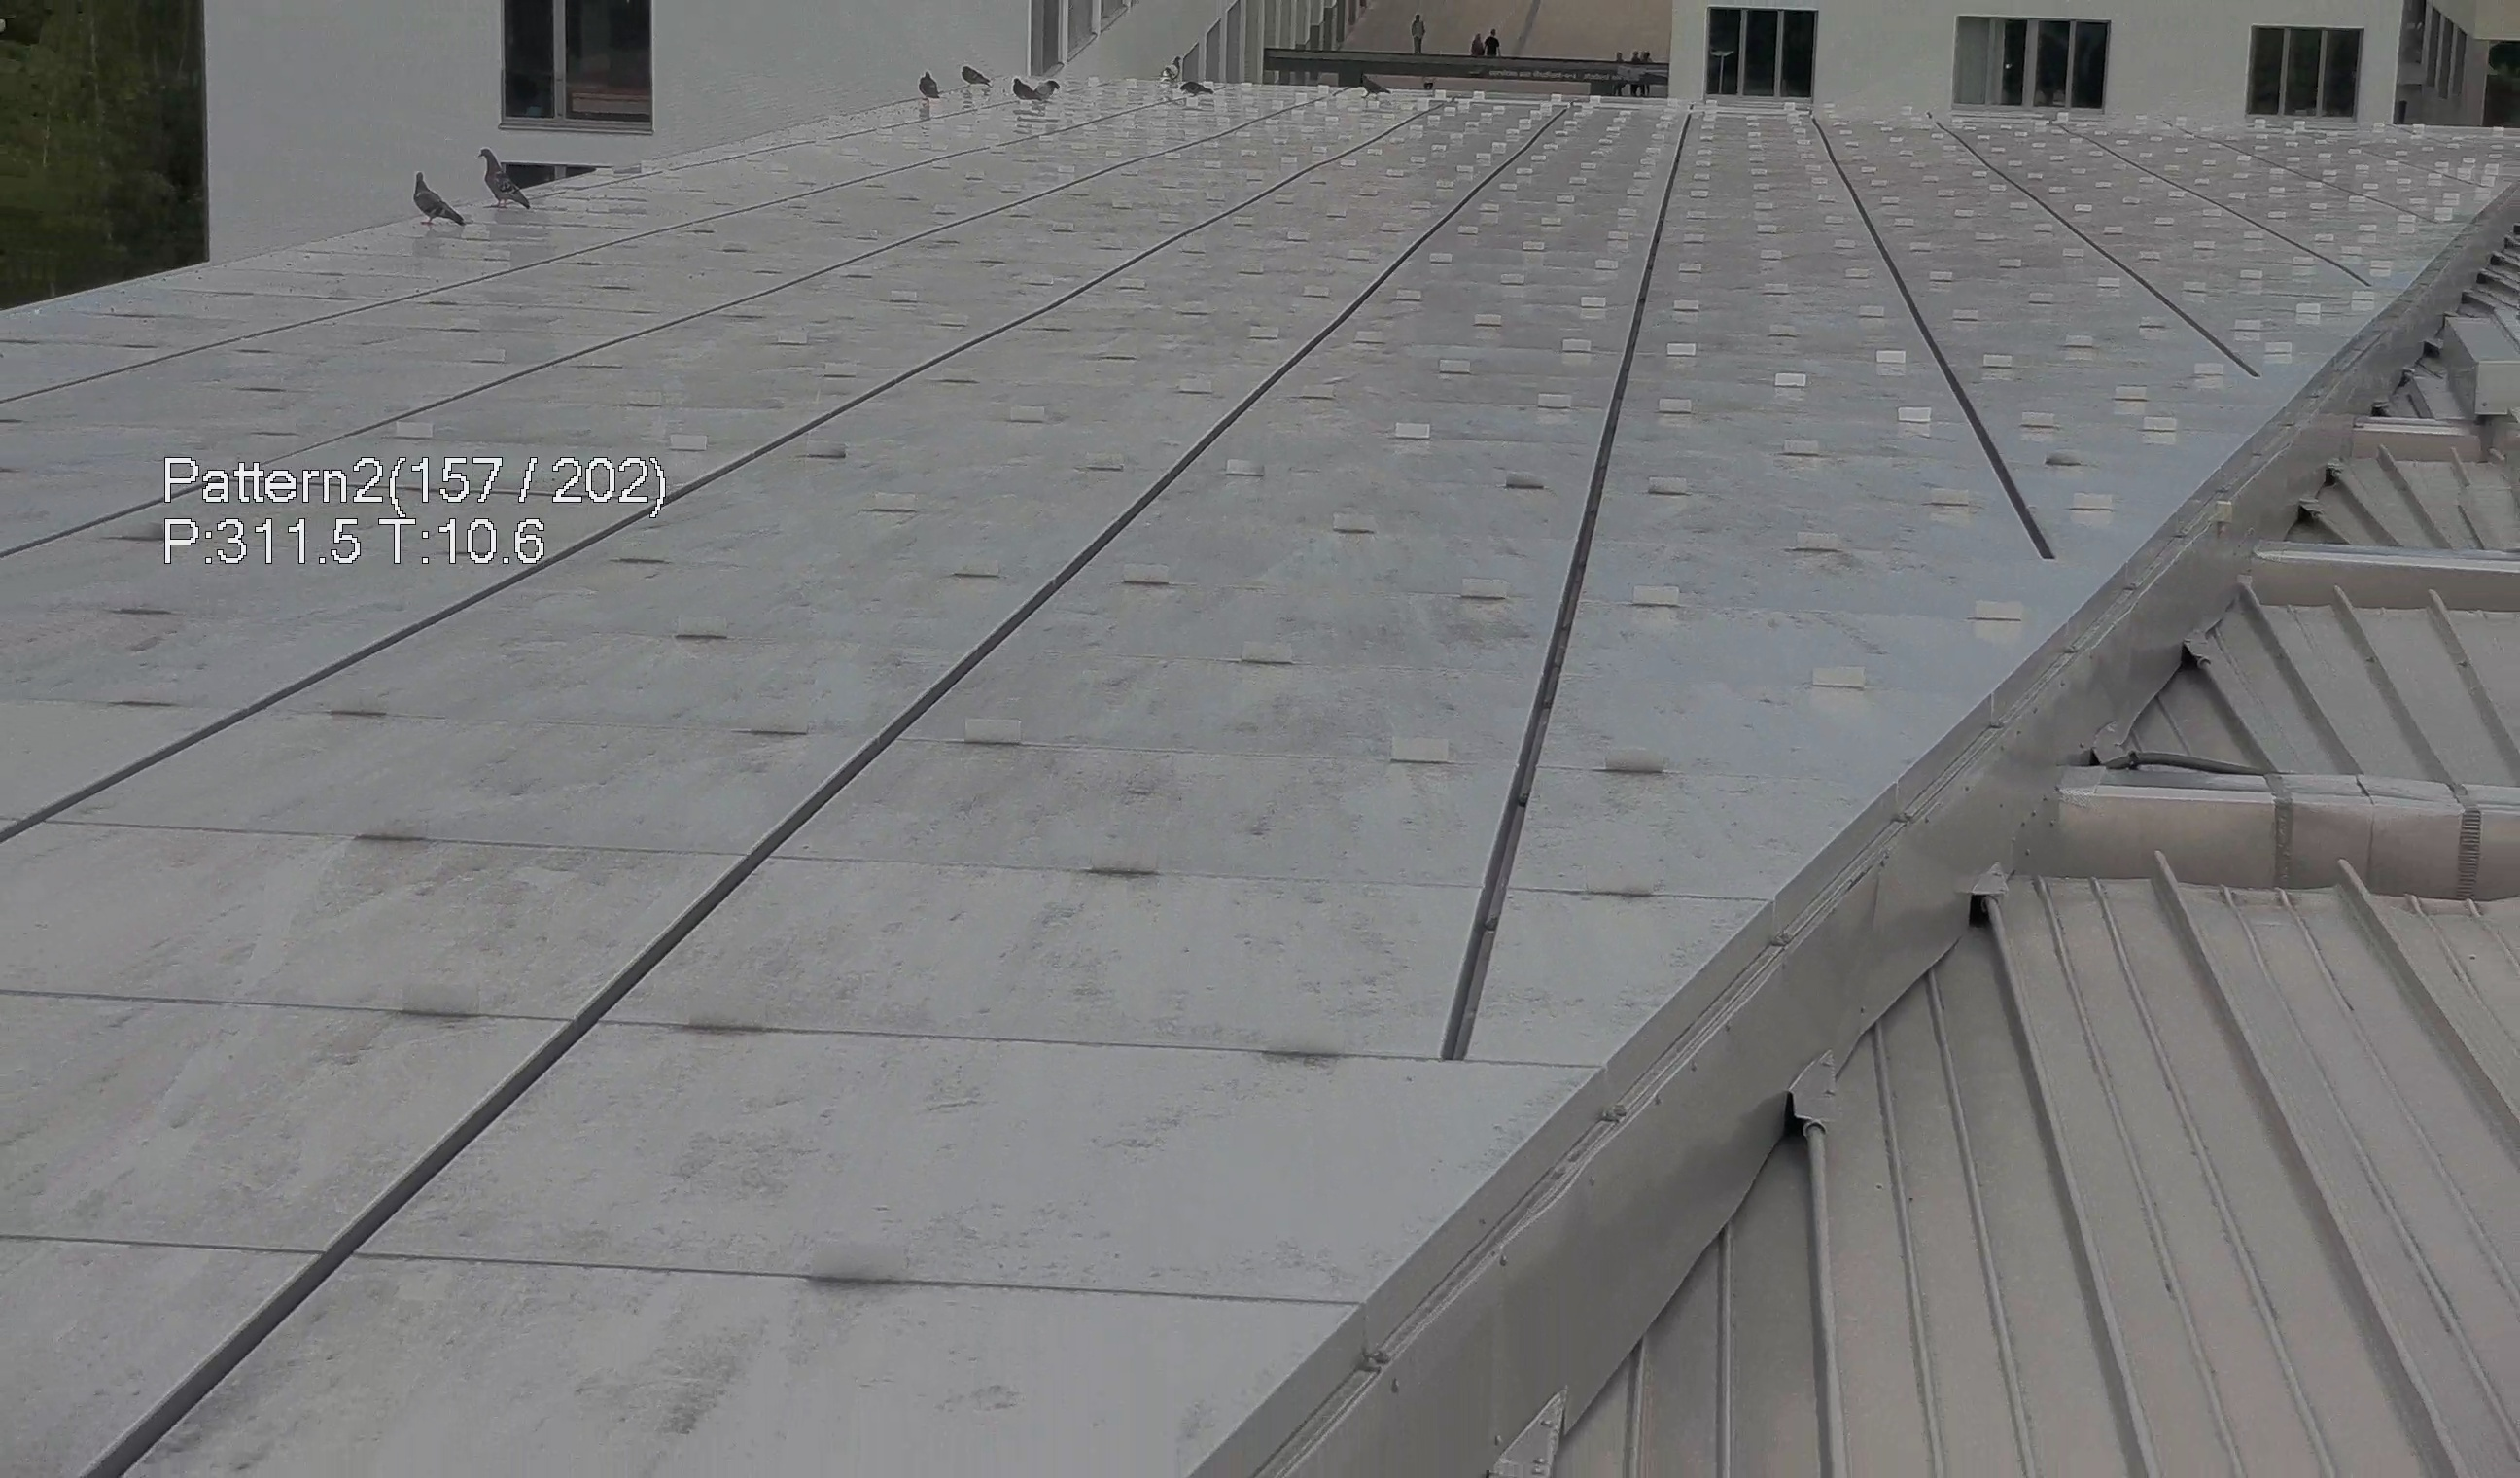Pigeon: (473, 132, 549, 206), (408, 171, 468, 229), (955, 62, 995, 90), (1352, 72, 1387, 102), (914, 69, 943, 102), (1036, 72, 1069, 100), (1011, 76, 1039, 104), (1178, 77, 1212, 99), (1161, 53, 1182, 81)
